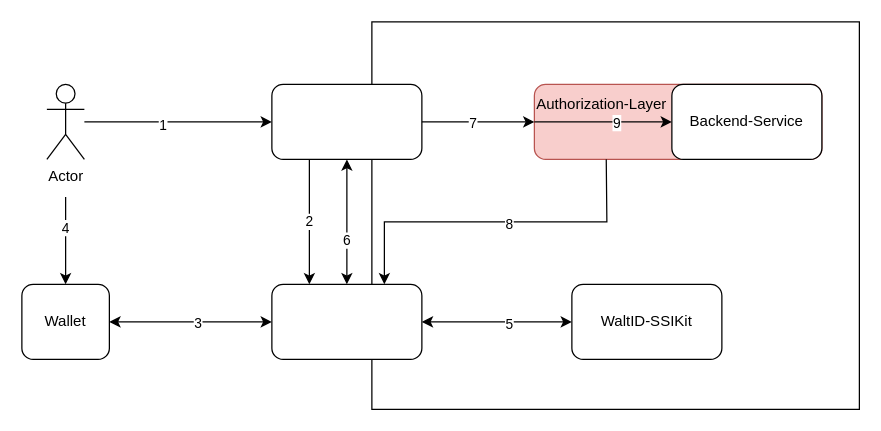
The diagram is 881 pixels wide and 431 high, and some of its shapes have lost their labels. The centre of each missing label's shape, as x and y in pixels:
Frontend-Application: the point at 346,121
VCVerifier: the point at 346,321
